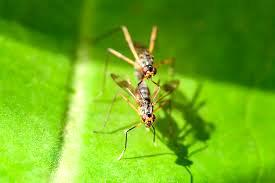Helopeltis-insect: (126, 38, 158, 78), (134, 81, 158, 130)
